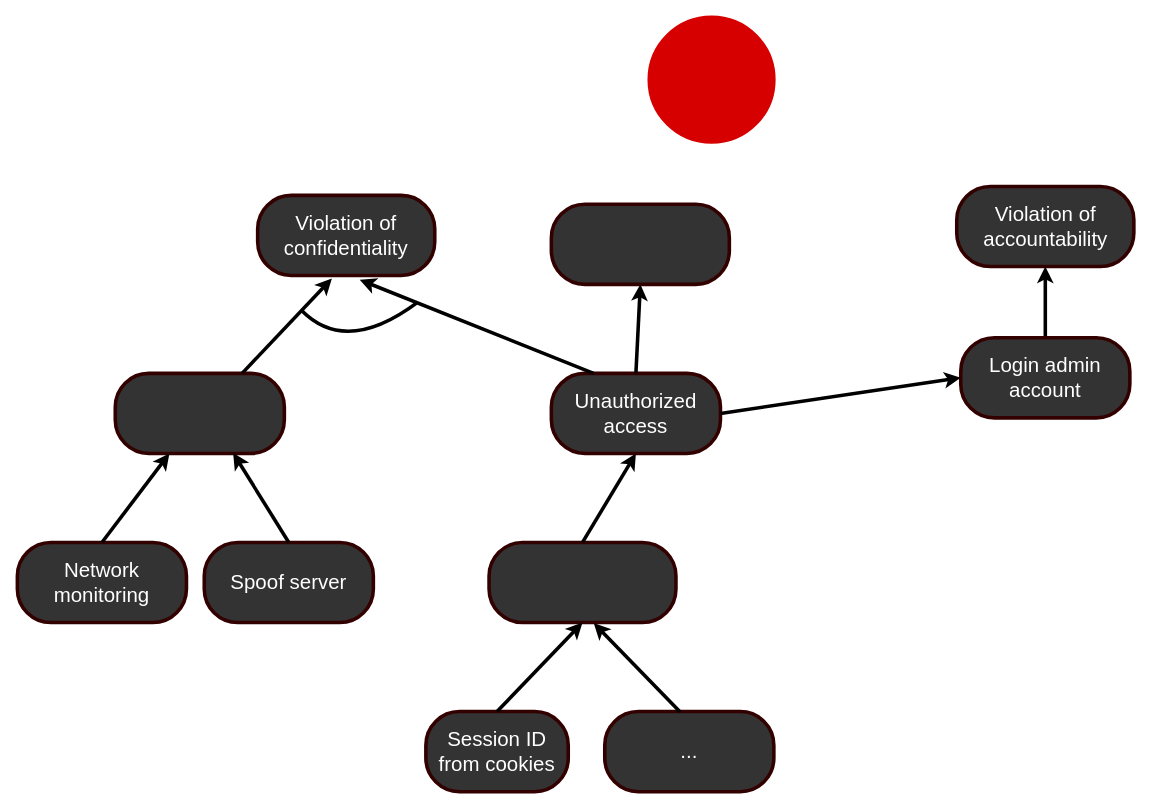
This 1151x808 diagram has some shape labels left out. The shapes that lost their labels are listed below. From the top down, each one's centre as x and y in pixels, then its label:
(x=711, y=79): Insider Attacker
(x=640, y=244): Violation of integrity
(x=199, y=413): Intercept
(x=582, y=582): Horizontal privilege escalation
